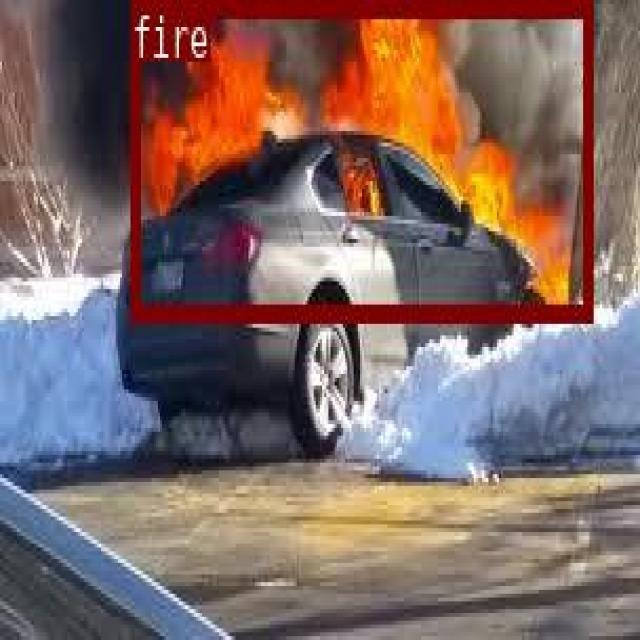fire: (130, 0, 591, 316)
